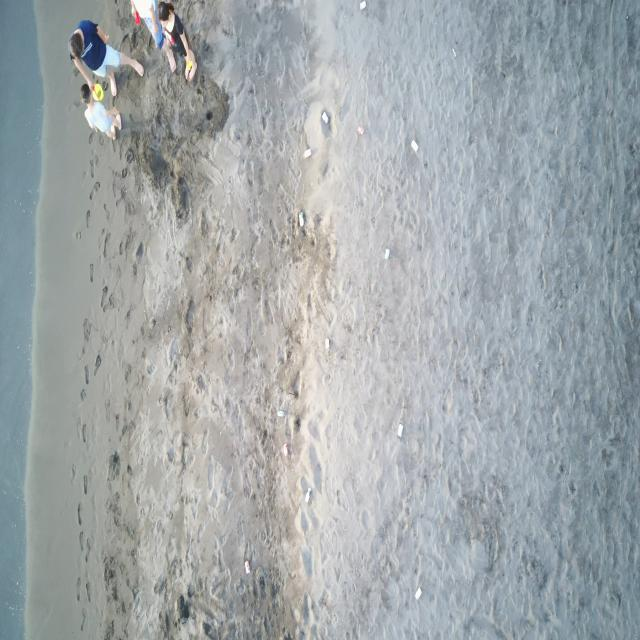tin-and-aluminum-cans: (304, 487, 312, 503), (414, 587, 422, 601), (298, 210, 304, 228), (411, 139, 419, 152), (322, 111, 329, 124), (283, 442, 289, 457), (324, 338, 330, 352), (304, 148, 312, 158), (245, 559, 250, 575), (398, 423, 403, 437), (384, 248, 390, 259), (277, 409, 284, 418), (360, 0, 366, 10), (358, 126, 364, 135)
